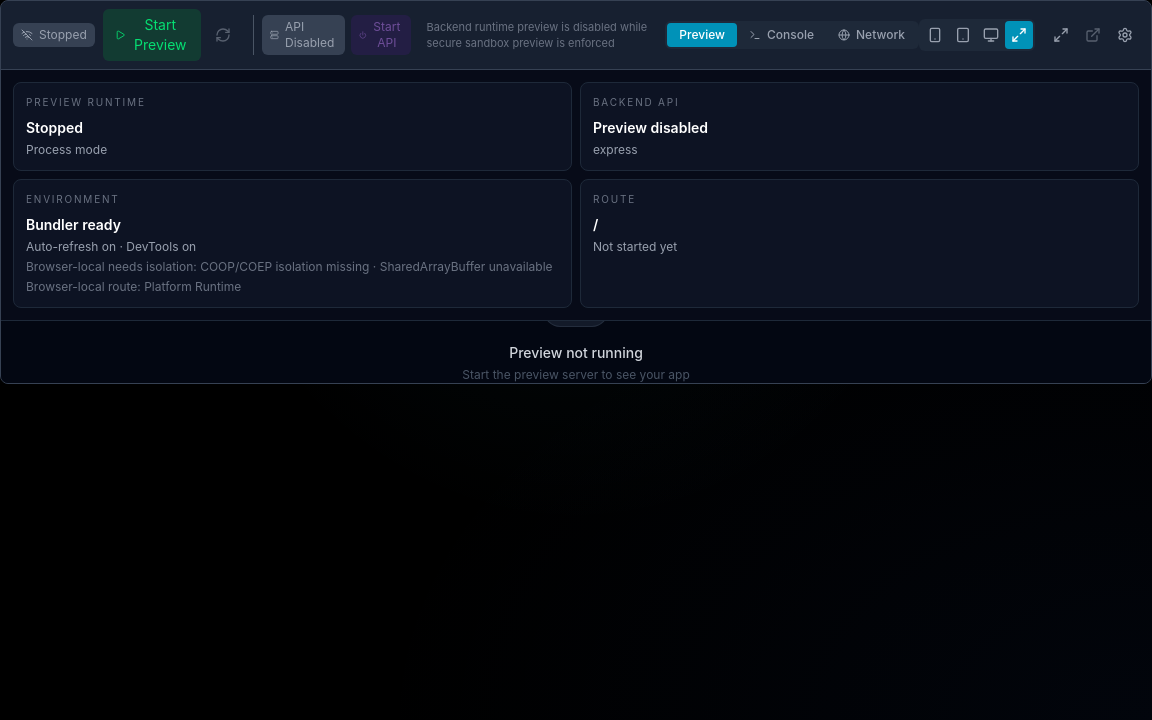
Test: LivePreview › locks sandbox mode and disables backend preview controls when secure preview is enforced
Expected: the text "API Disabled" is shown, [285,19,338,51]
Click the button titled "Settings".
click(1125, 35)  # box [1111,21,1139,49]
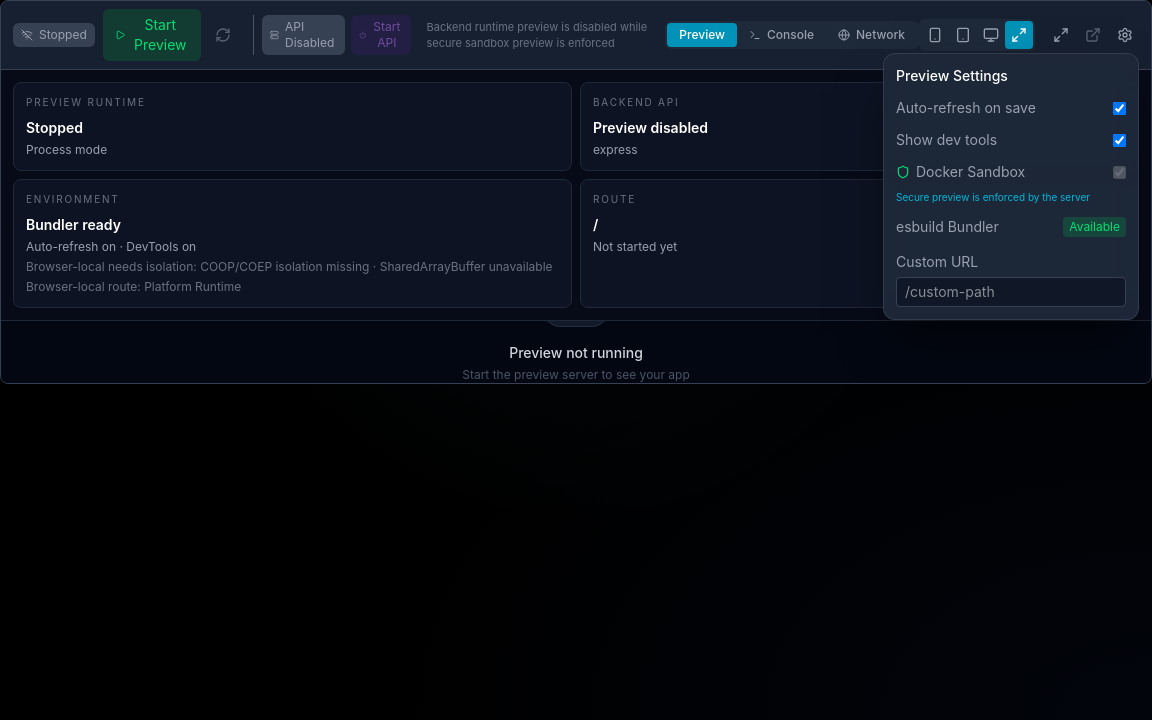
Expected: the button "Start API" is disabled, [352,15,411,55]
Result: the checkbox labelled "Docker Sandbox" is checked at [1113,166,1126,178]
Result: the checkbox labelled "Docker Sandbox" is disabled at [1113,166,1126,178]
